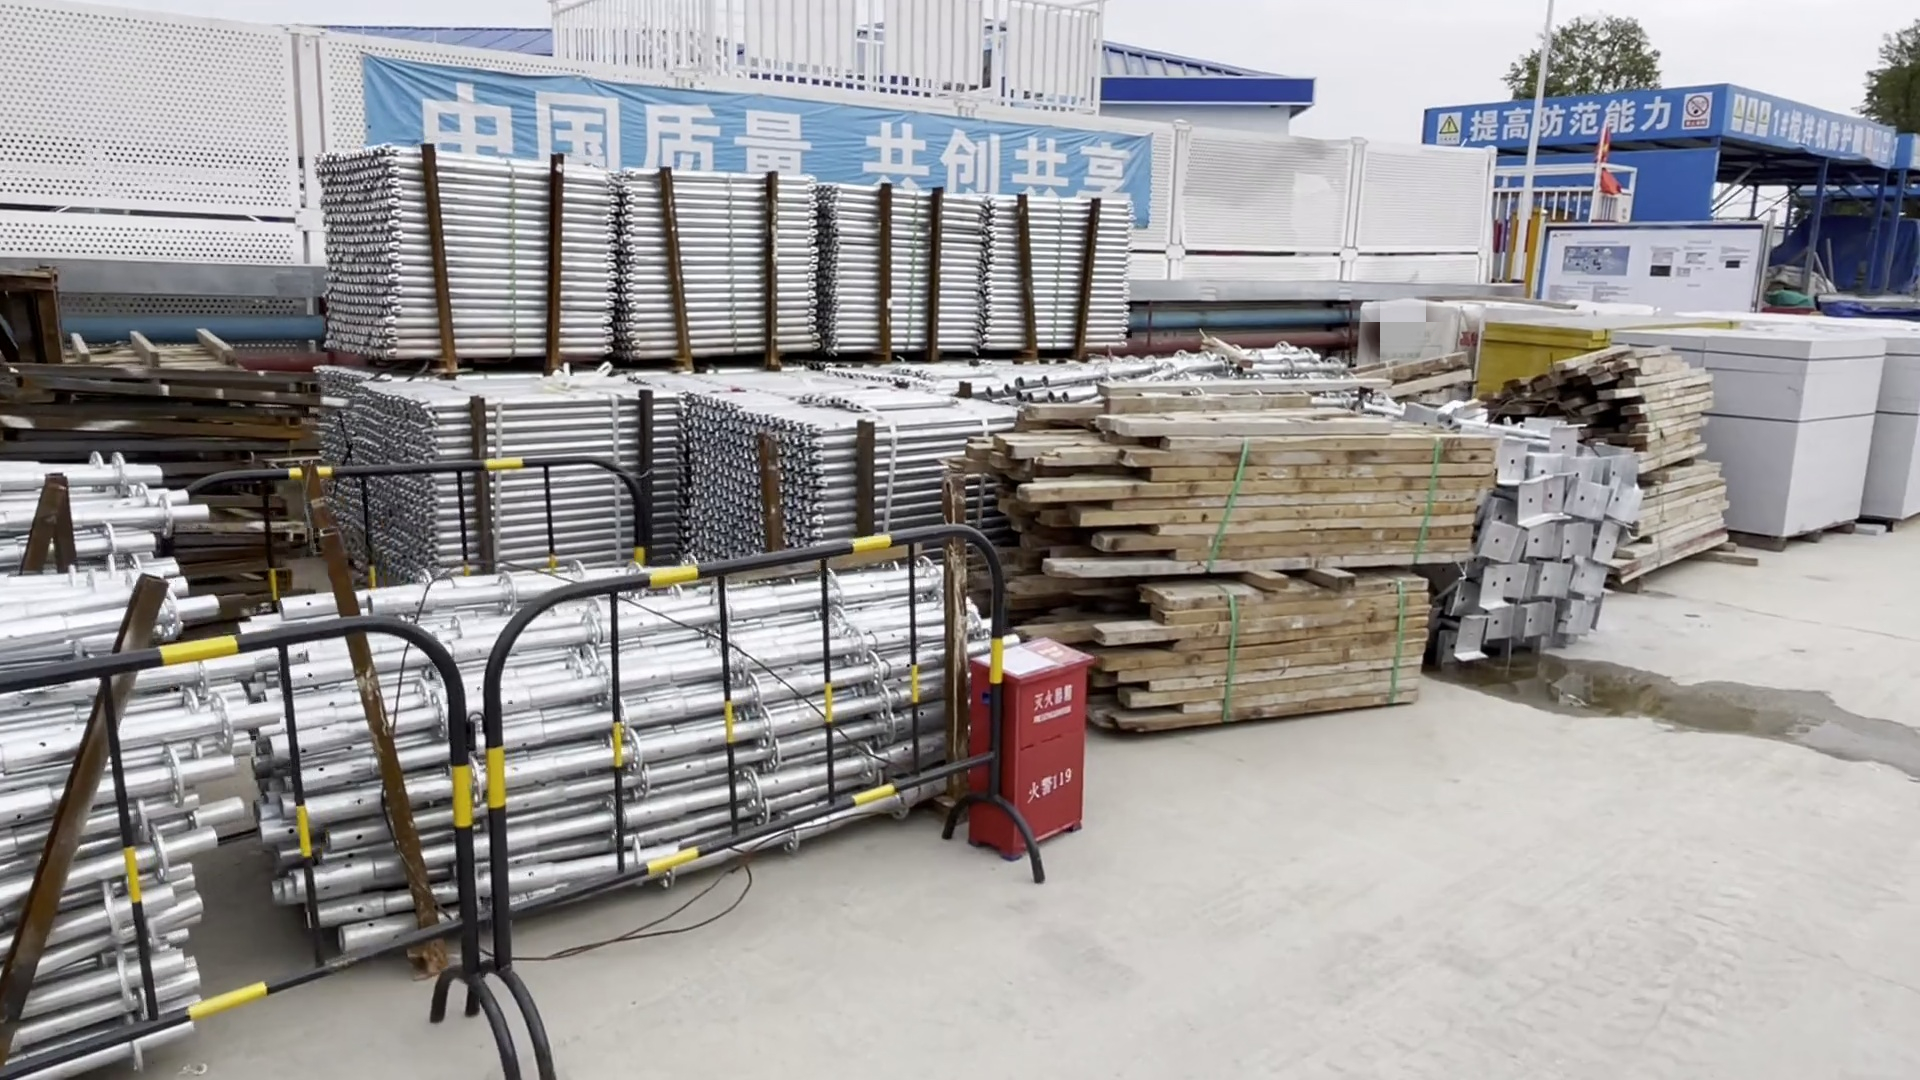brick: (1737, 335, 1912, 535)
scaffold: (12, 454, 993, 1077), (302, 160, 1124, 583)
slogan: (360, 53, 1147, 231), (1425, 83, 1908, 153)
wood: (1021, 405, 1502, 738), (1610, 345, 1720, 580)
